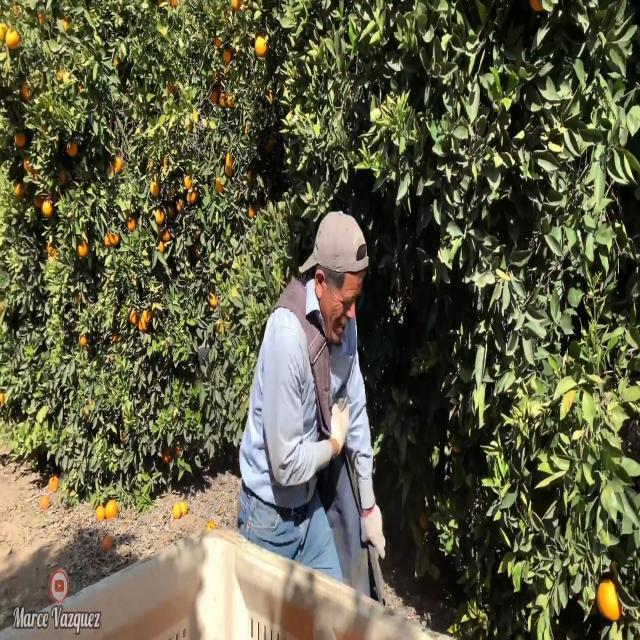Jeruk Sudah Matang: (252, 32, 268, 58)
